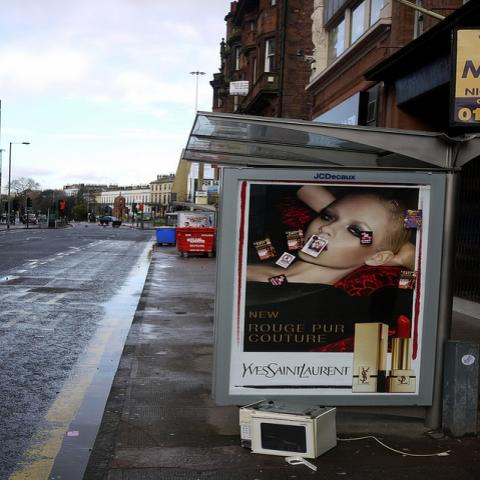car: (21, 214, 37, 224), (102, 216, 119, 221), (38, 214, 47, 222)
